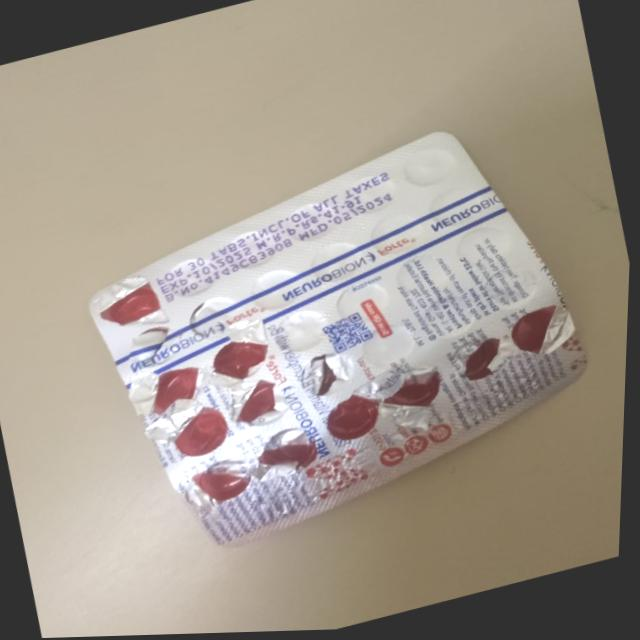medicine: (51, 117, 629, 582)
